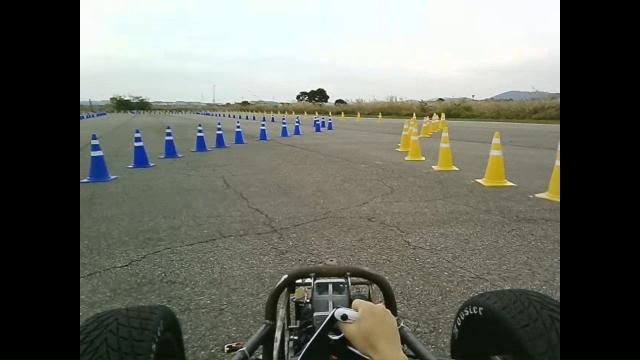blue cone: (83, 129, 118, 188), (121, 124, 156, 170), (156, 122, 186, 163), (187, 118, 213, 156), (213, 120, 230, 150), (232, 118, 248, 144)
yellow cone: (475, 131, 517, 187), (431, 126, 459, 171)
